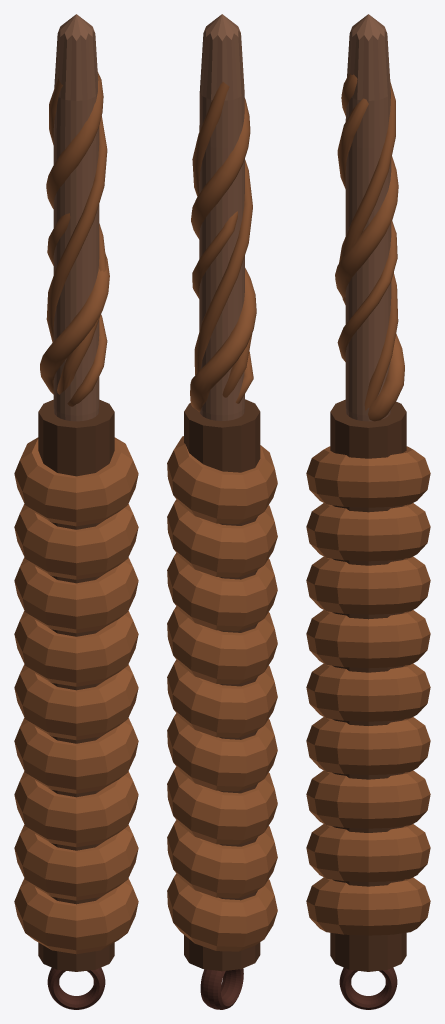
File: Wand 471.glb
3 views of the same model, side by side, from view 1: azimuth 90°, elevation 25°; view 2: azimuth 150°, elevation 25°; view 3: azimuth 270°, elevation 25° (orthographic).
Parts seen in each view (by area): view 1: GeneratedWand; view 2: GeneratedWand; view 3: GeneratedWand.
Part boxes in pixels (x1,y1,x2,y2): GeneratedWand: (14, 14, 138, 1009); GeneratedWand: (167, 14, 277, 1009); GeneratedWand: (306, 14, 430, 1009).
Size of the model in its own units: 0.0497 by 0.5129 by 0.0581.
